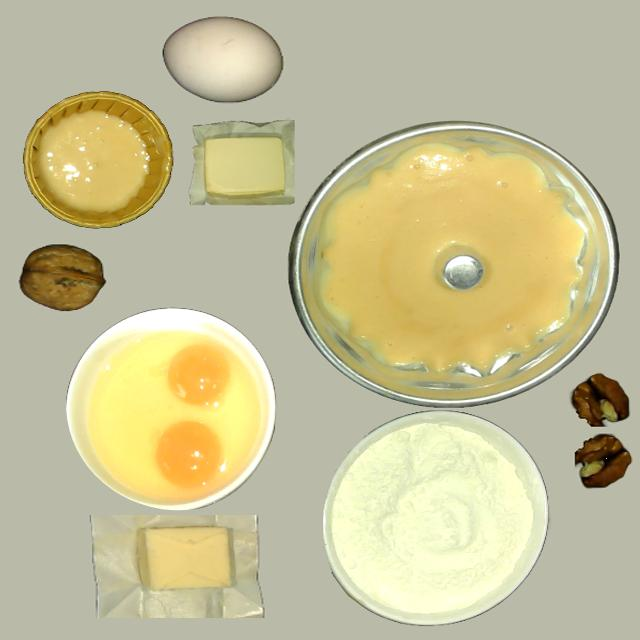Egg: (157, 422, 221, 487), (168, 345, 230, 406)
Flour: (322, 409, 548, 623)
Walnut: (18, 245, 104, 311)
